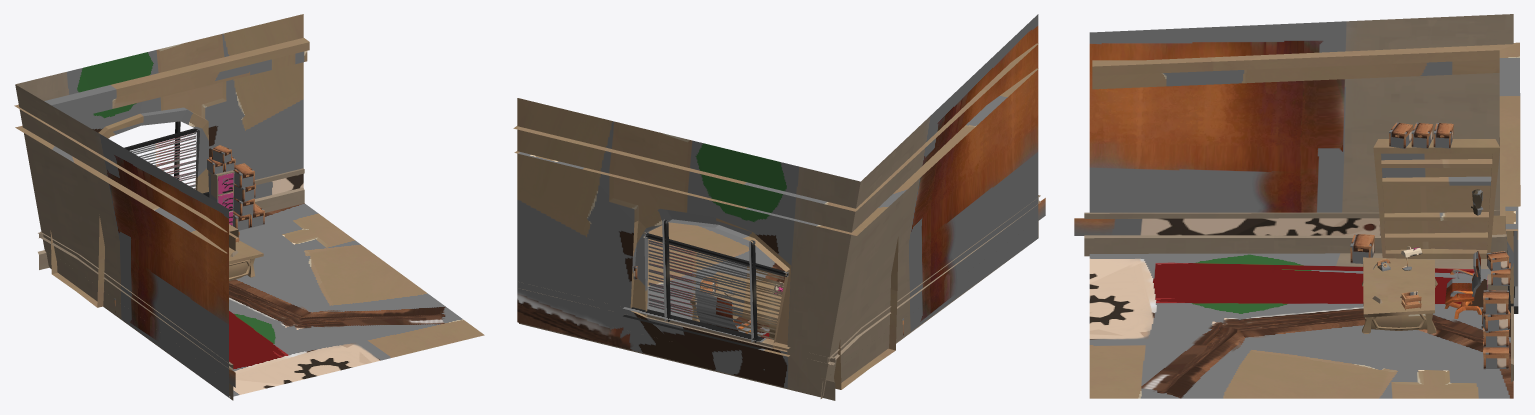
The model's file is bossOffice_newUV.fbx.
The picture shows the model from 3 angles, left to right: view 1: azimuth 30°, elevation 25°; view 2: azimuth 150°, elevation 25°; view 3: azimuth 270°, elevation 25°; orthographic projection. The views are drawn at different scales.
Visible parts, largest first — view 1: polySurface450; view 2: polySurface450; view 3: polySurface450.
Part boxes in pixels (bbox=[...]): polySurface450: bbox=[14, 14, 484, 400]; polySurface450: bbox=[513, 14, 1045, 400]; polySurface450: bbox=[1074, 14, 1520, 398].
Bounding box in the file's own units: 35.43 × 22.34 × 40.56.
